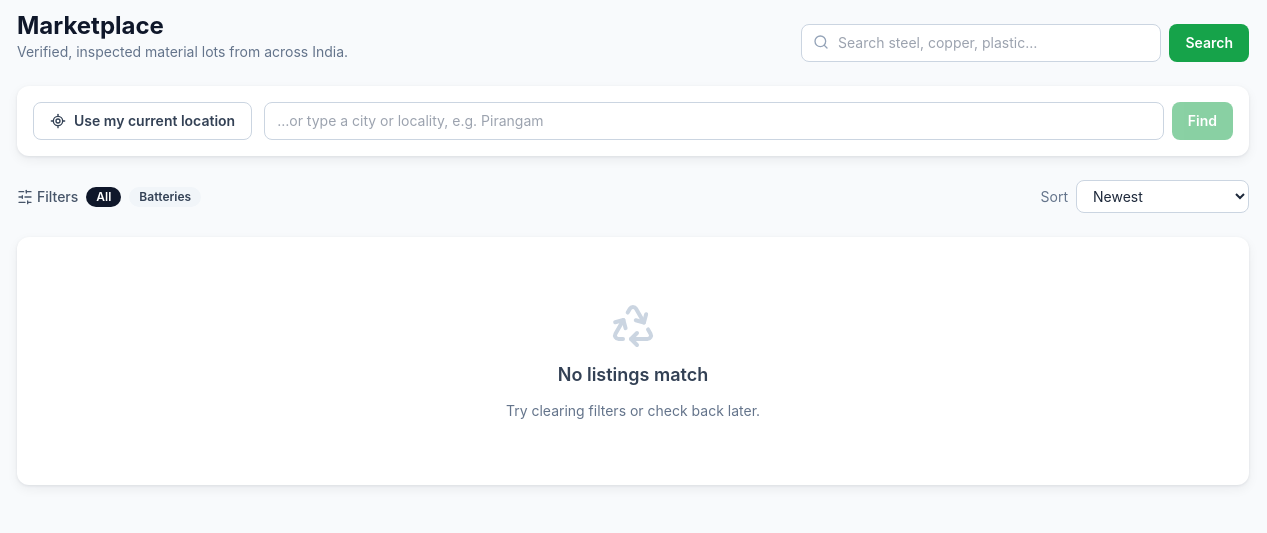
Marketplace location search › explains a declined permission and keeps the typed search usable
This screenshot has width=1267, height=533.
Expected: the button "Batteries" is shown, [129, 186, 201, 206]
Click the button "Use my current location". click: [143, 121]
box: [33, 102, 252, 140]
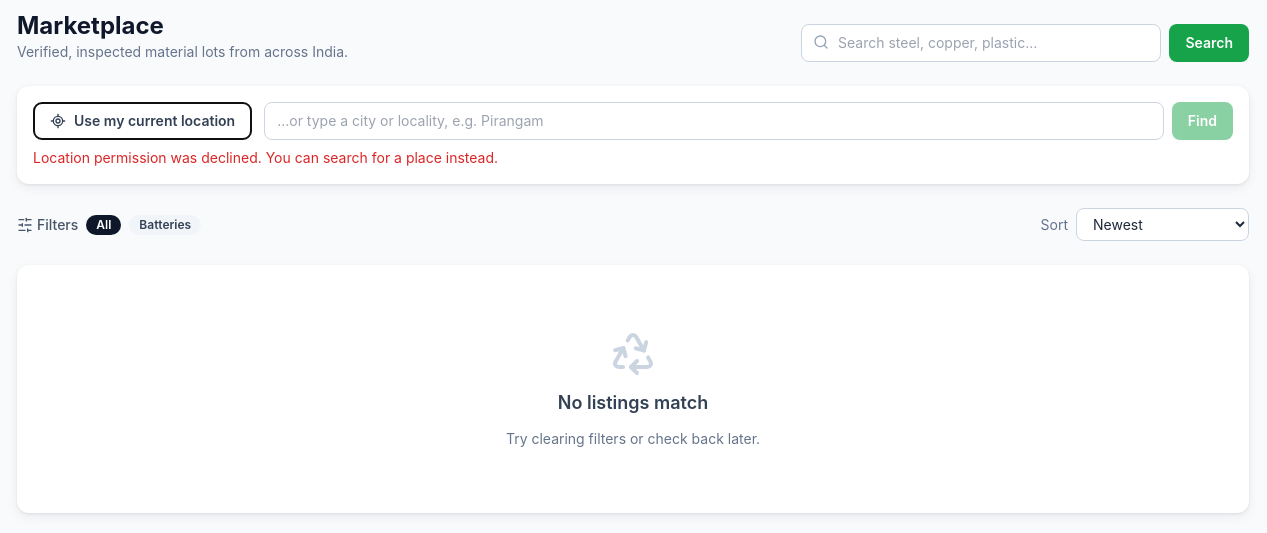
Expected: the field named "search by place" is shown, [264, 102, 1164, 140]
Now the text "declined" is shown, box [33, 149, 498, 166]
